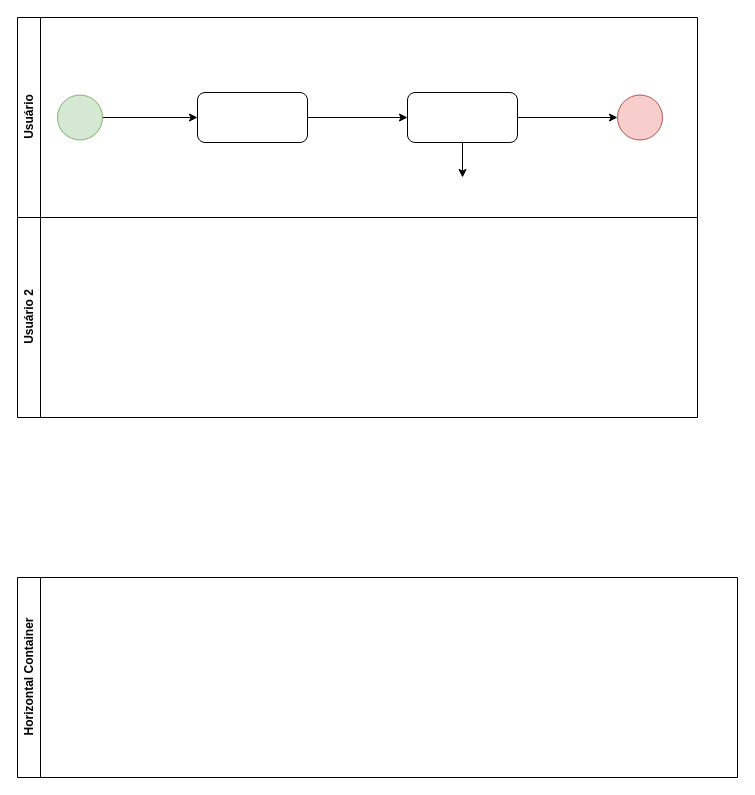
The diagram is 755 pixels wide and 795 high, and some of its shapes have lost their labels. Each missing label, with the centre of its shape:
"Informar motivo da denuncia" belongs at [462,117].
"Informar usuário" belongs at [252,117].
